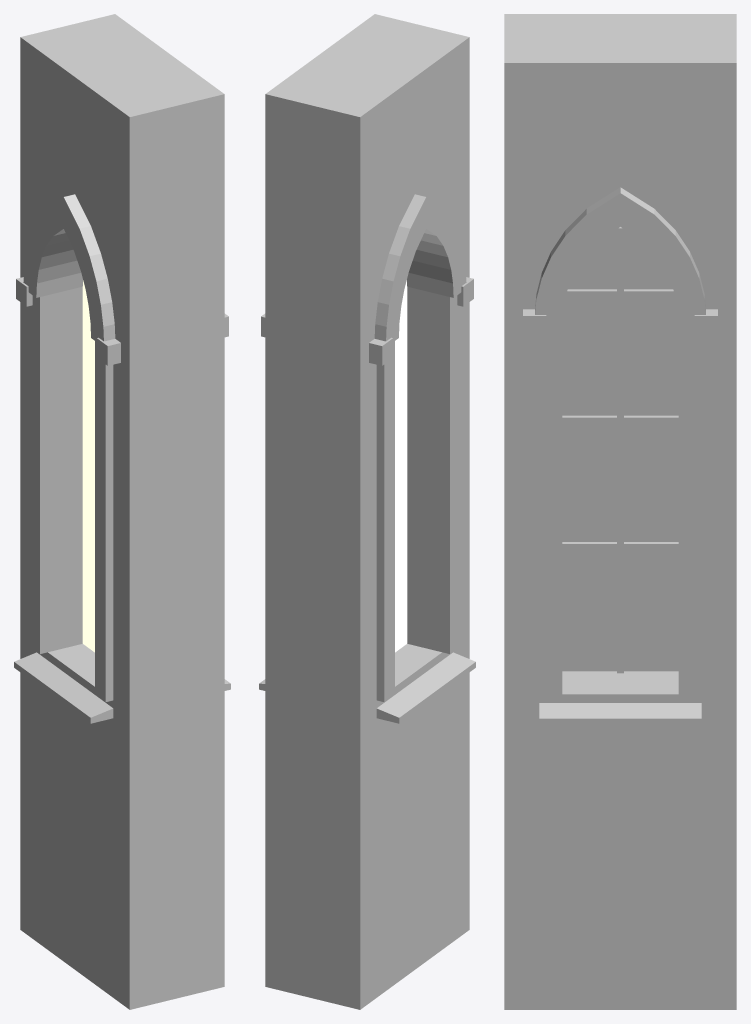
Rendered from wall.chapel.window_tall.glb.
3 views of the same model, side by side, from view 1: azimuth 30°, elevation 25°; view 2: azimuth 150°, elevation 25°; view 3: azimuth 270°, elevation 25° (orthographic). The views are drawn at different scales.
Parts seen in each view (by area): view 1: wall_chapel_window_tall, glow; view 2: wall_chapel_window_tall, glow; view 3: wall_chapel_window_tall.
Boxes of the visible parts, x1,y1,x2,y2 form: wall_chapel_window_tall: [14, 14, 230, 1009]; glow: [82, 280, 94, 652]; wall_chapel_window_tall: [259, 14, 475, 1009]; glow: [395, 280, 407, 652]; wall_chapel_window_tall: [504, 14, 736, 1009].
Bounding box in the file's own units: 0.74 × 4.5 × 1.
